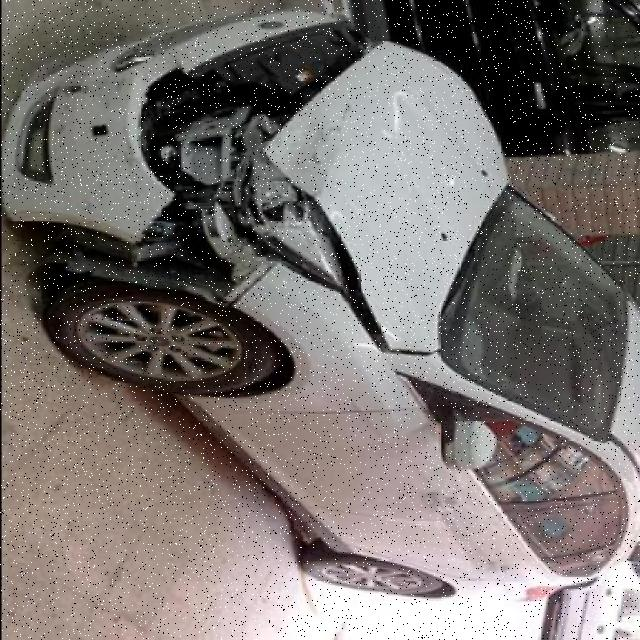damage: (2, 10, 391, 351)
